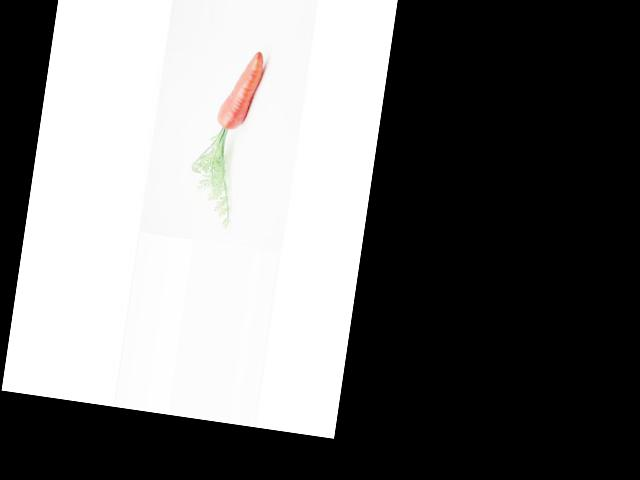carrot: (213, 37, 277, 136)
